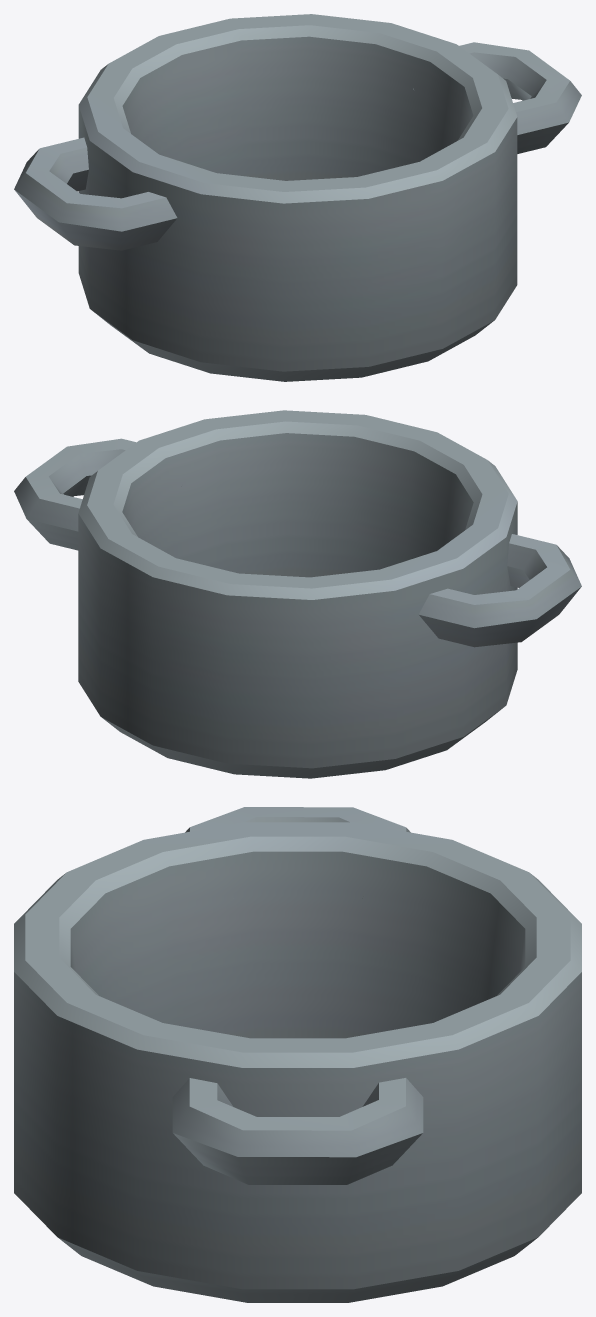
The model's file is kastrull.glb.
3 renders of one model, top to bottom at view 1: azimuth 30°, elevation 25°; view 2: azimuth 150°, elevation 25°; view 3: azimuth 270°, elevation 25°, orthographic. The views are drawn at different scales.
Visible parts, largest first — view 1: pot_A; view 2: pot_A; view 3: pot_A.
Part boxes in pixels (<box>): pot_A: <box>14,14,581,381</box>; pot_A: <box>14,410,581,778</box>; pot_A: <box>14,807,581,1302</box>.
Size of the model in its own units: 1.4 by 0.4999 by 1.
Materials: 1 (1 with a texture image).
